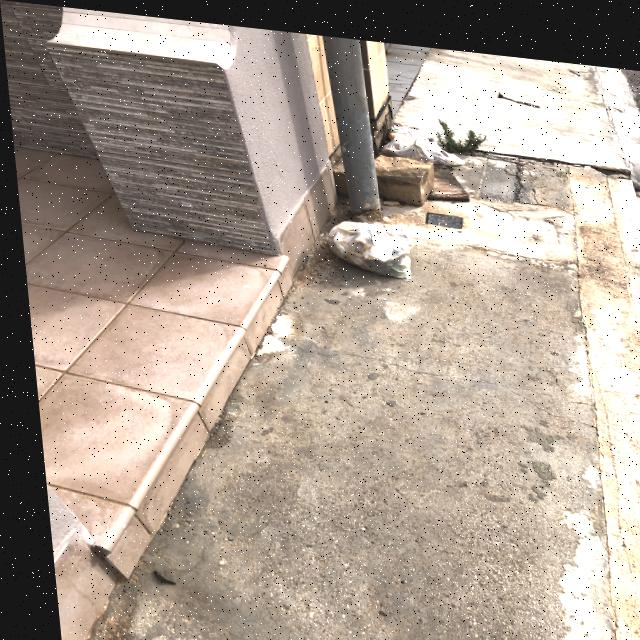Organic Waste -White Bag-: (318, 200, 424, 279), (379, 127, 465, 159), (387, 116, 439, 137)
